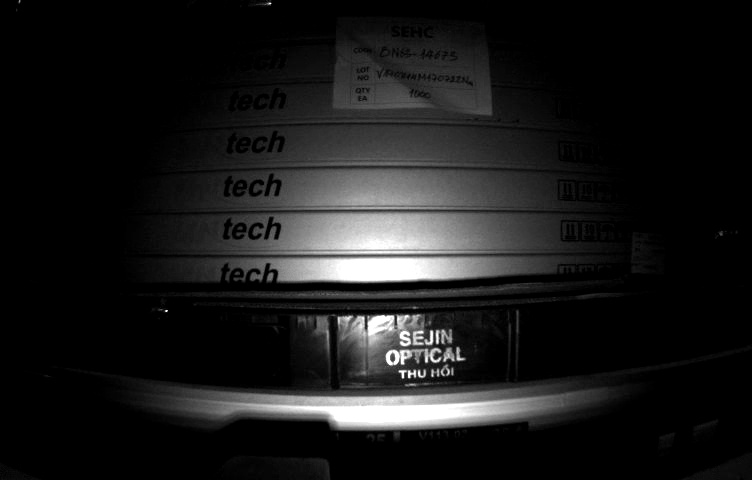True Barcode: (631, 230, 671, 282)
